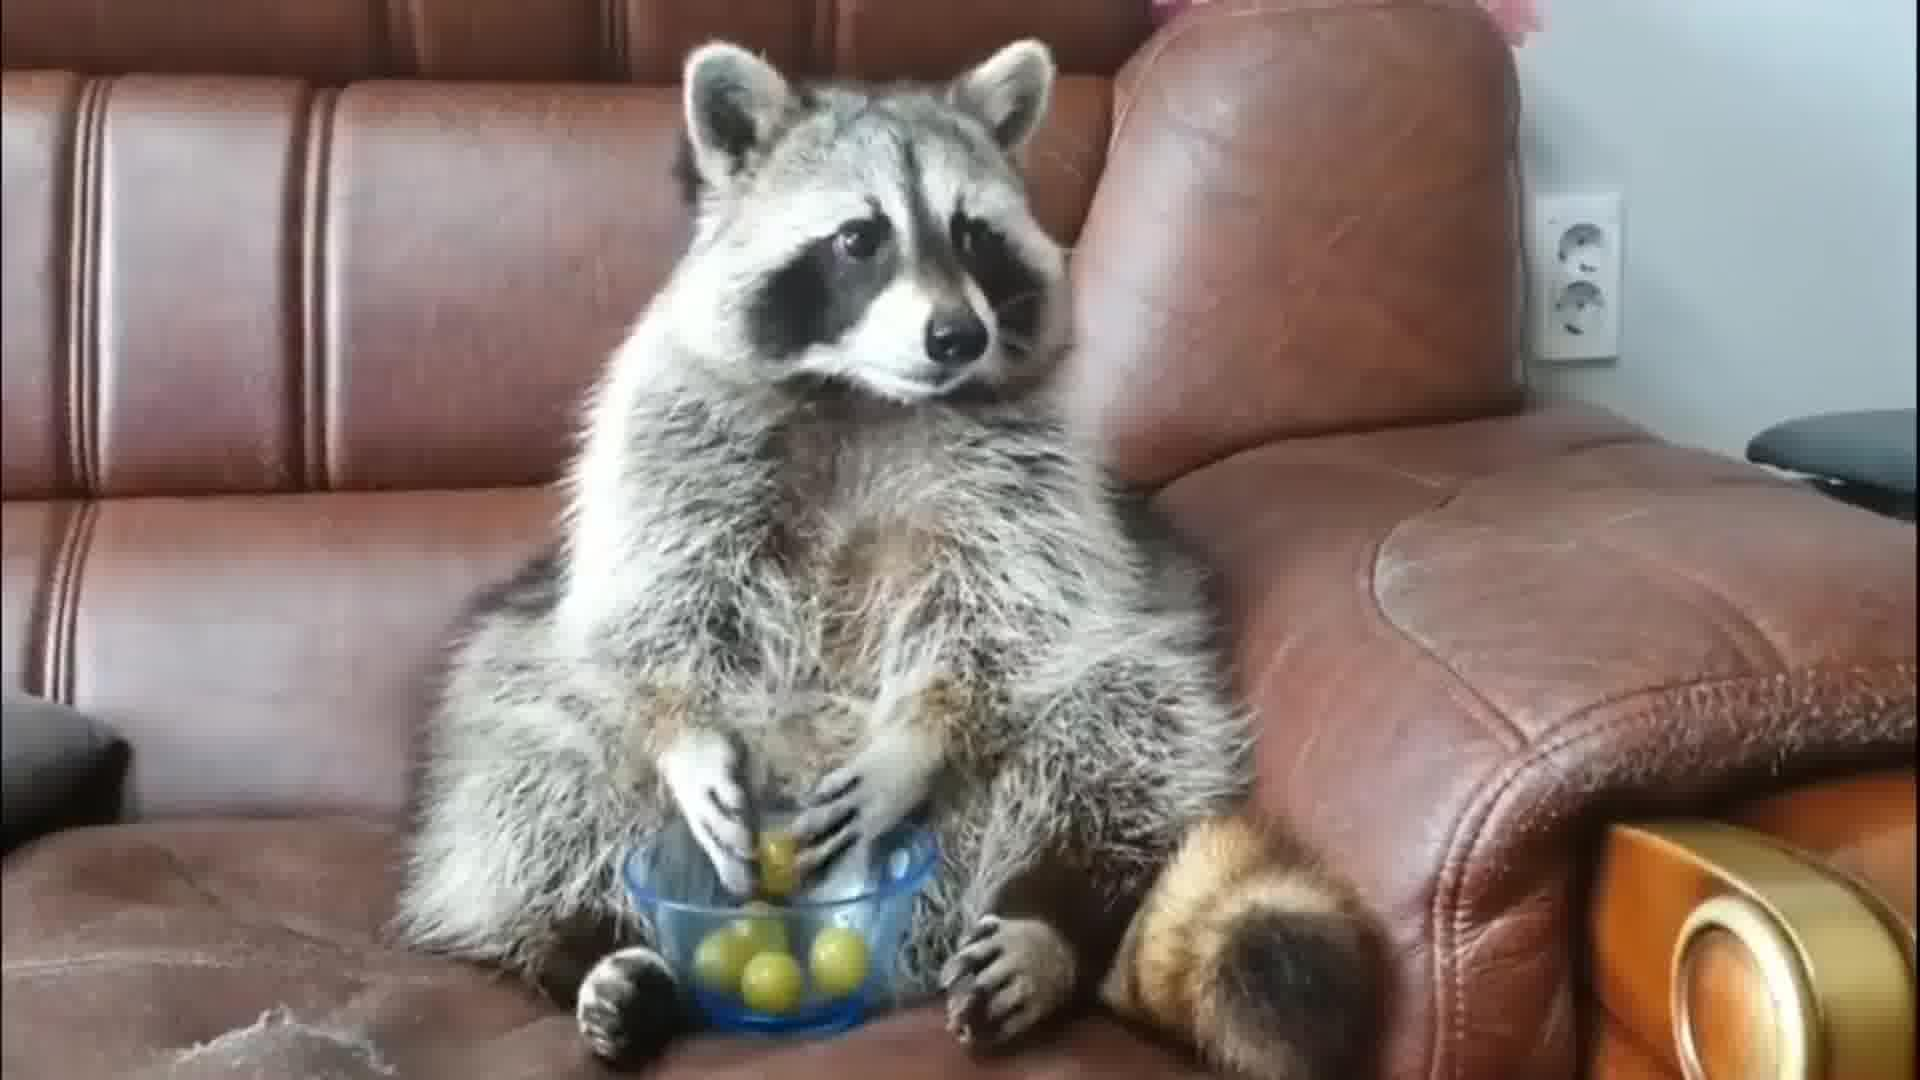raccoon: (401, 31, 1402, 1080)
